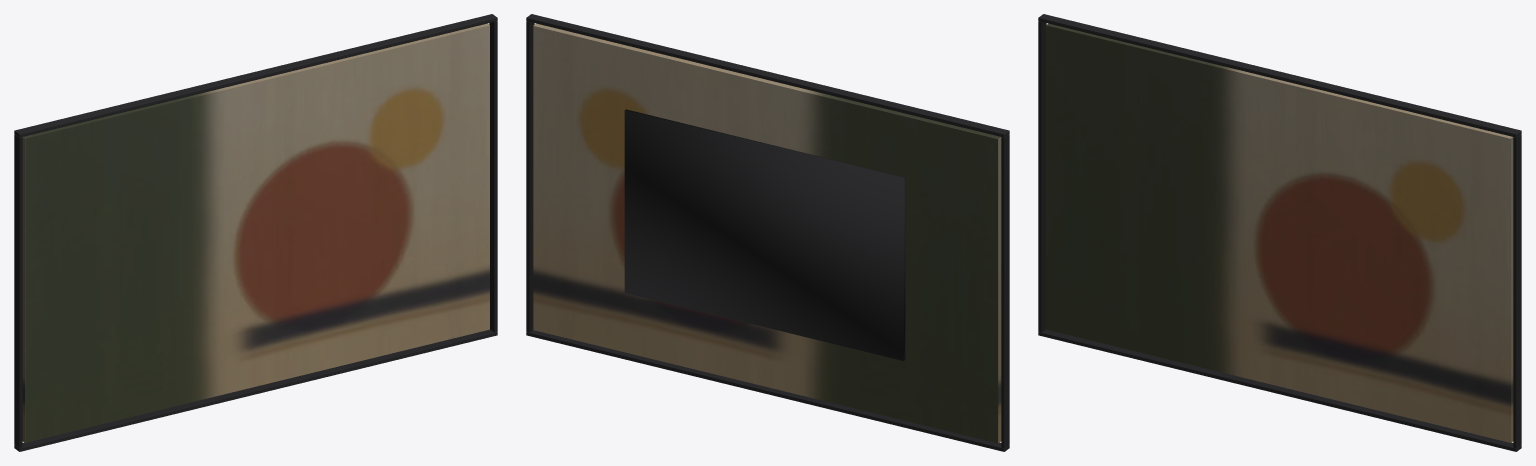
File: dining_artwork.gltf
3 views of the same model, side by side, from view 1: azimuth 30°, elevation 25°; view 2: azimuth 150°, elevation 25°; view 3: azimuth 330°, elevation 25° (orthographic).
Parts seen in each view (by area): view 1: DiningArtwork_Canvas, DiningArtwork_Frame0, DiningArtwork_Frame1, DiningArtwork_Frame2, DiningArtwork_Frame3; view 2: DiningArtwork_Canvas, DiningArtwork_Spacer, DiningArtwork_Frame0, DiningArtwork_Frame1, DiningArtwork_Frame2, DiningArtwork_Frame3; view 3: DiningArtwork_Canvas, DiningArtwork_Frame0, DiningArtwork_Frame1, DiningArtwork_Frame3, DiningArtwork_Frame2.
Part boxes in pixels (bbox=[...]): DiningArtwork_Canvas: bbox=[22, 23, 489, 442]; DiningArtwork_Frame0: bbox=[14, 14, 497, 137]; DiningArtwork_Frame1: bbox=[14, 329, 497, 451]; DiningArtwork_Frame2: bbox=[14, 134, 22, 448]; DiningArtwork_Frame3: bbox=[489, 21, 497, 332]; DiningArtwork_Canvas: bbox=[533, 23, 1001, 443]; DiningArtwork_Spacer: bbox=[624, 109, 905, 360]; DiningArtwork_Frame0: bbox=[526, 14, 1009, 137]; DiningArtwork_Frame1: bbox=[526, 330, 1009, 451]; DiningArtwork_Frame2: bbox=[1001, 134, 1009, 448]; DiningArtwork_Frame3: bbox=[526, 21, 534, 332]; DiningArtwork_Canvas: bbox=[1046, 23, 1513, 442]; DiningArtwork_Frame0: bbox=[1038, 14, 1521, 137]; DiningArtwork_Frame1: bbox=[1038, 329, 1521, 451]; DiningArtwork_Frame3: bbox=[1513, 134, 1521, 448]; DiningArtwork_Frame2: bbox=[1038, 21, 1046, 332].
Bounding box in the file's own units: 2.47 × 1.57 × 0.058.
Materials: 2 (1 with a texture image).
